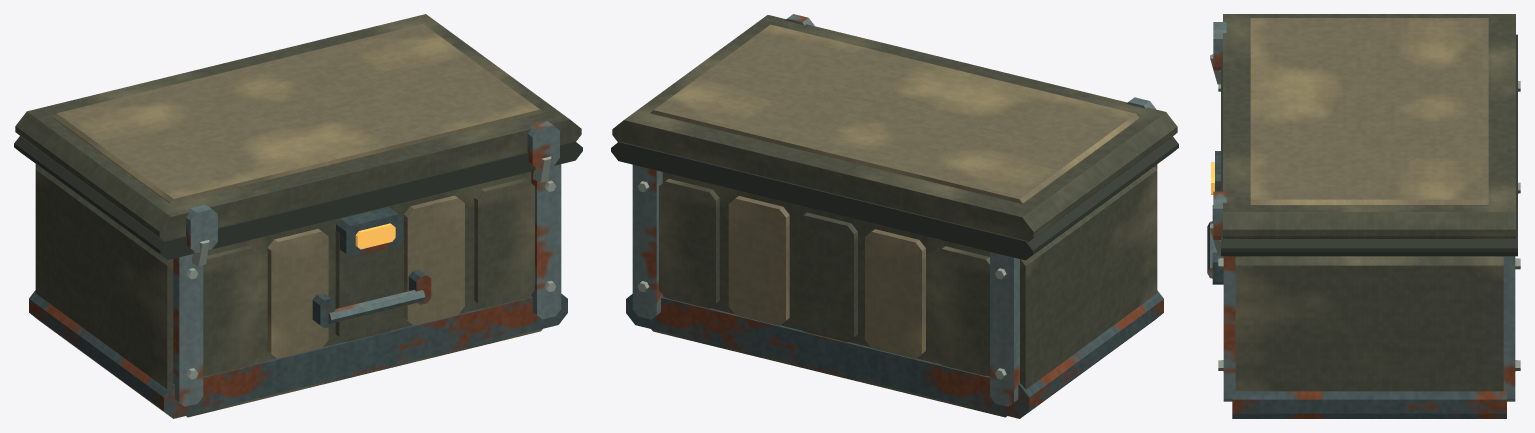
File: supply_crate.glb
The picture shows the model from 3 angles, left to right: view 1: azimuth 30°, elevation 25°; view 2: azimuth 150°, elevation 25°; view 3: azimuth 270°, elevation 25°; orthographic projection.
Visible parts, largest first — view 1: RivetedSupplyCrate; view 2: RivetedSupplyCrate; view 3: RivetedSupplyCrate.
Part boxes in pixels (<box>): RivetedSupplyCrate: <box>14,14,582,418</box>; RivetedSupplyCrate: <box>611,14,1178,418</box>; RivetedSupplyCrate: <box>1207,14,1520,418</box>.
Size of the model in its own units: 1.95 by 0.9485 by 1.23.
7 materials, 4 textured.
